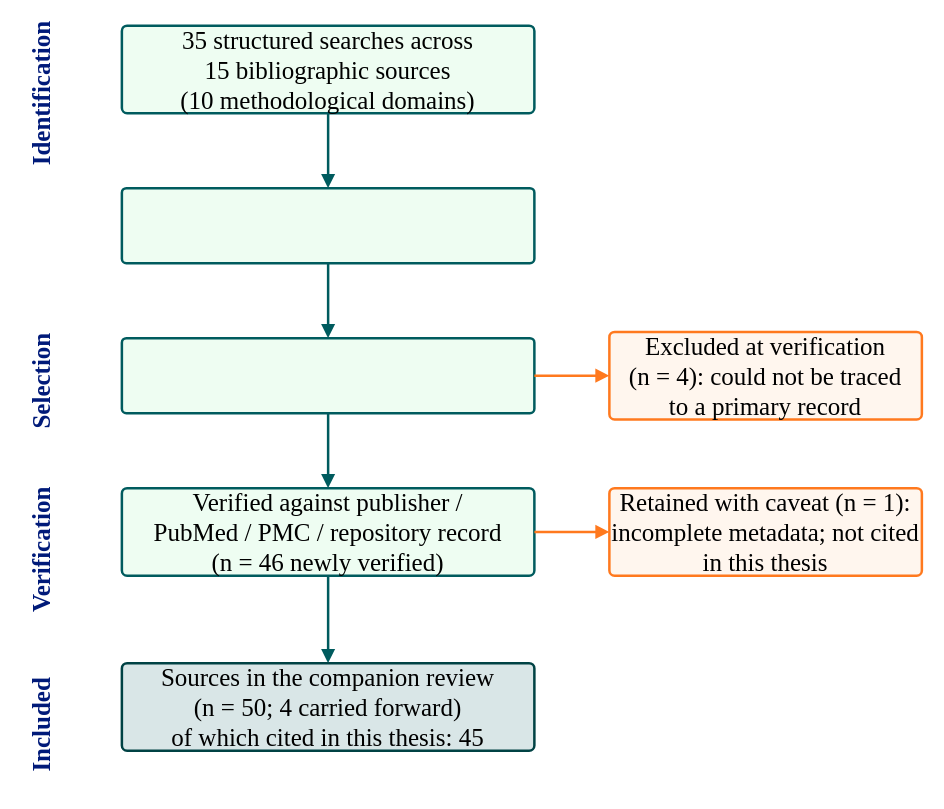
The diagram is 944 pixels wide and 809 high, and some of its shapes have lost their labels. The shapes that lost their labels are listed below. From the top down, each one's box as (x1, y1, x2, y2) in pixels, then its label:
(120, 186, 535, 264): Sources in the base review (n = 19: 18 studies + 1 review)
(120, 336, 535, 414): Candidates carried into the extended critical review
